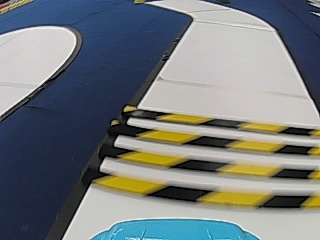bump: (135, 105, 317, 210)
